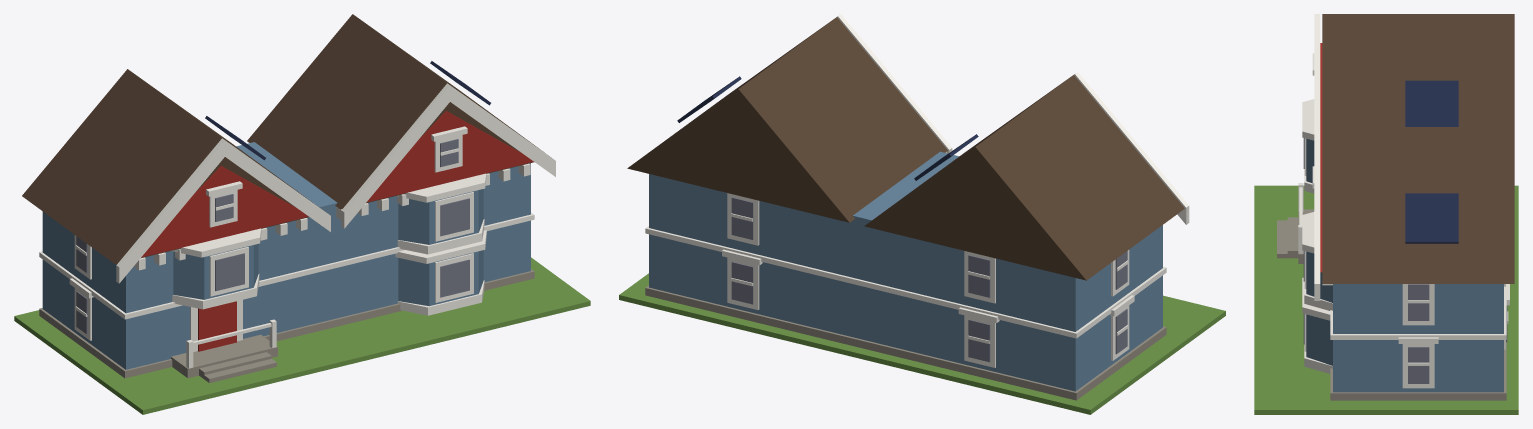
Rendered from house-2x1-2f-victorian-a-solar.glb.
3 views of the same model, side by side, from view 1: azimuth 30°, elevation 25°; view 2: azimuth 150°, elevation 25°; view 3: azimuth 270°, elevation 25° (orthographic). The views are drawn at different scales.
Parts seen in each view (by area): view 1: house-2x1-2f-victorian-a-solar; view 2: house-2x1-2f-victorian-a-solar; view 3: house-2x1-2f-victorian-a-solar.
Part boxes in pixels (left/top/right/bottom): house-2x1-2f-victorian-a-solar: left=14, top=14, right=590, bottom=414; house-2x1-2f-victorian-a-solar: left=619, top=14, right=1225, bottom=414; house-2x1-2f-victorian-a-solar: left=1254, top=14, right=1518, bottom=414.
Size of the model in its own units: 1.99 by 0.96 by 0.99.
Materials: 1 (1 with a texture image).
